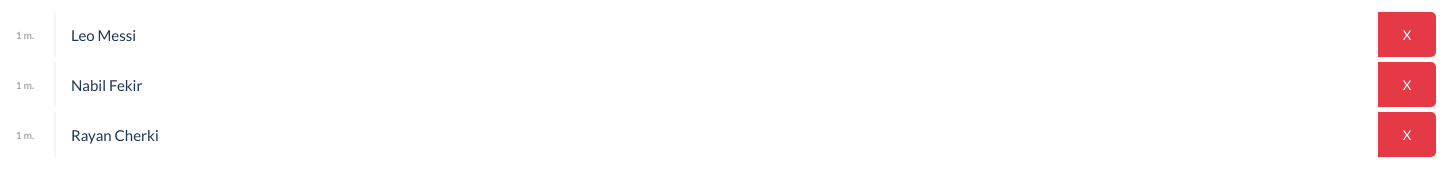
Test: PlayersList component / Edit Mode ON › clicking remove button opens confirmation buttons
Click the button with test id "remove-button" in the row of "Leo": x=1407, y=34 [1378,12,1436,57]
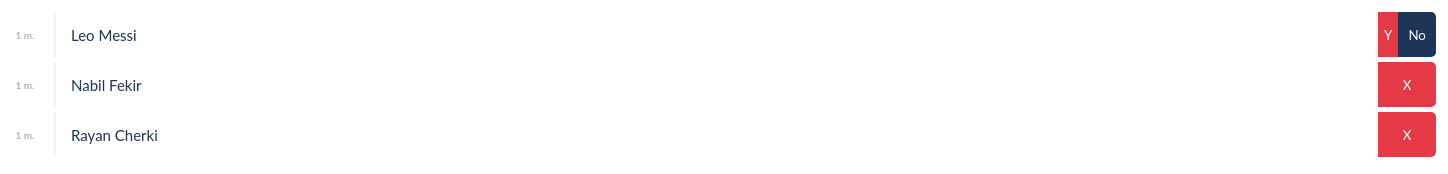
Expected: the button with test id "confirmYes" is shown, [1378,12,1398,57]
Expected: the button with test id "confirmNo" is shown, [1398,12,1436,57]
